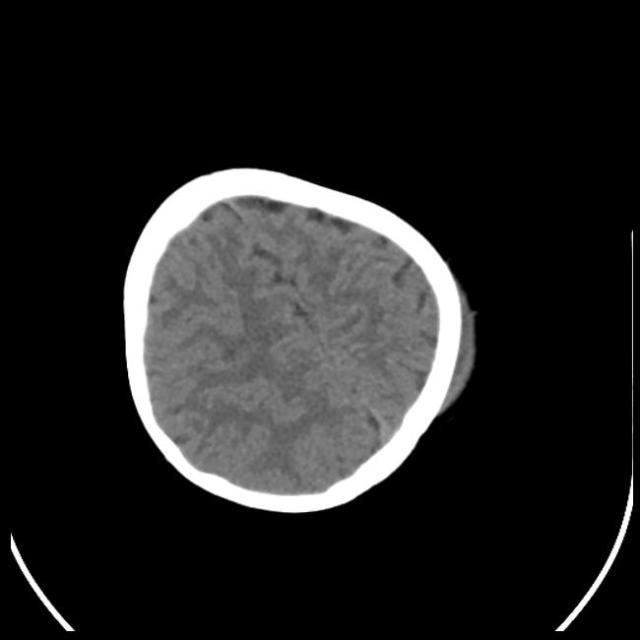lesion: (117, 160, 483, 519)
